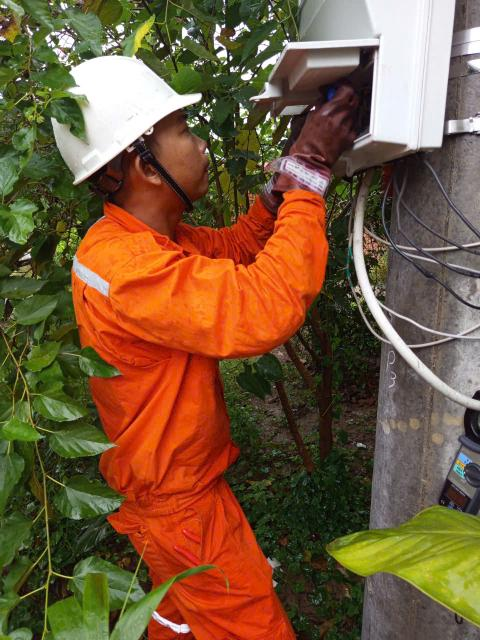gloves: (275, 91, 377, 202)
helmet: (33, 55, 208, 202)
